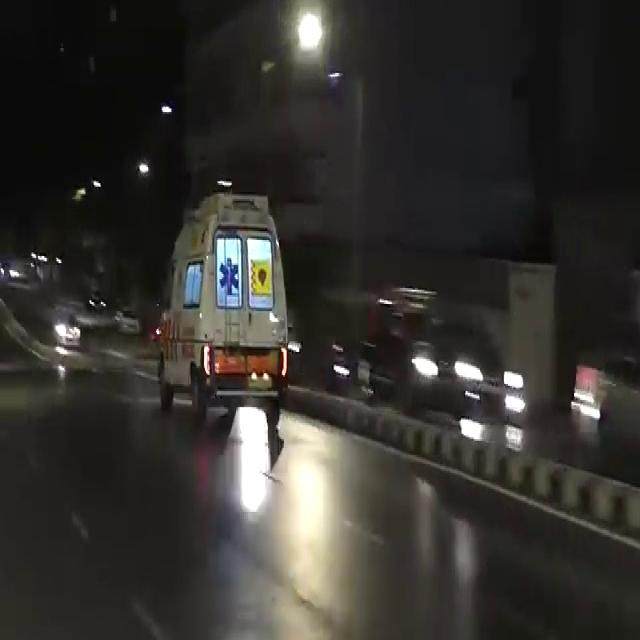ambulance: (153, 200, 334, 406)
